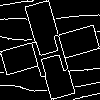H: (25, 25, 73, 79)
